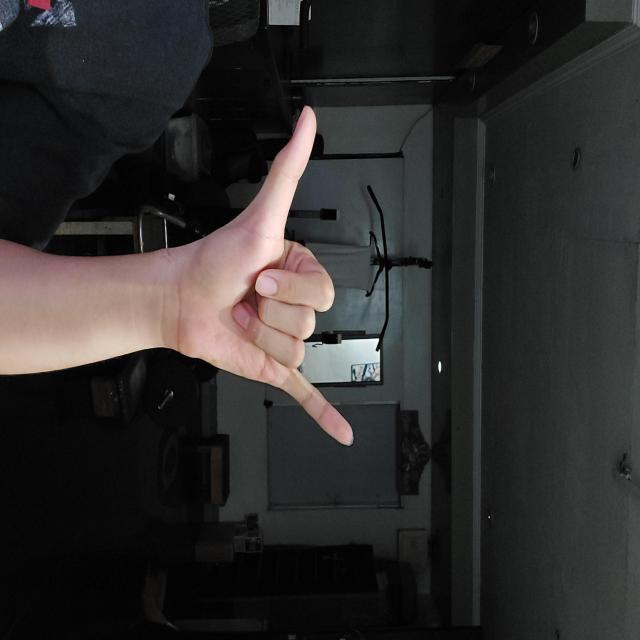Y: (106, 286, 446, 462)
